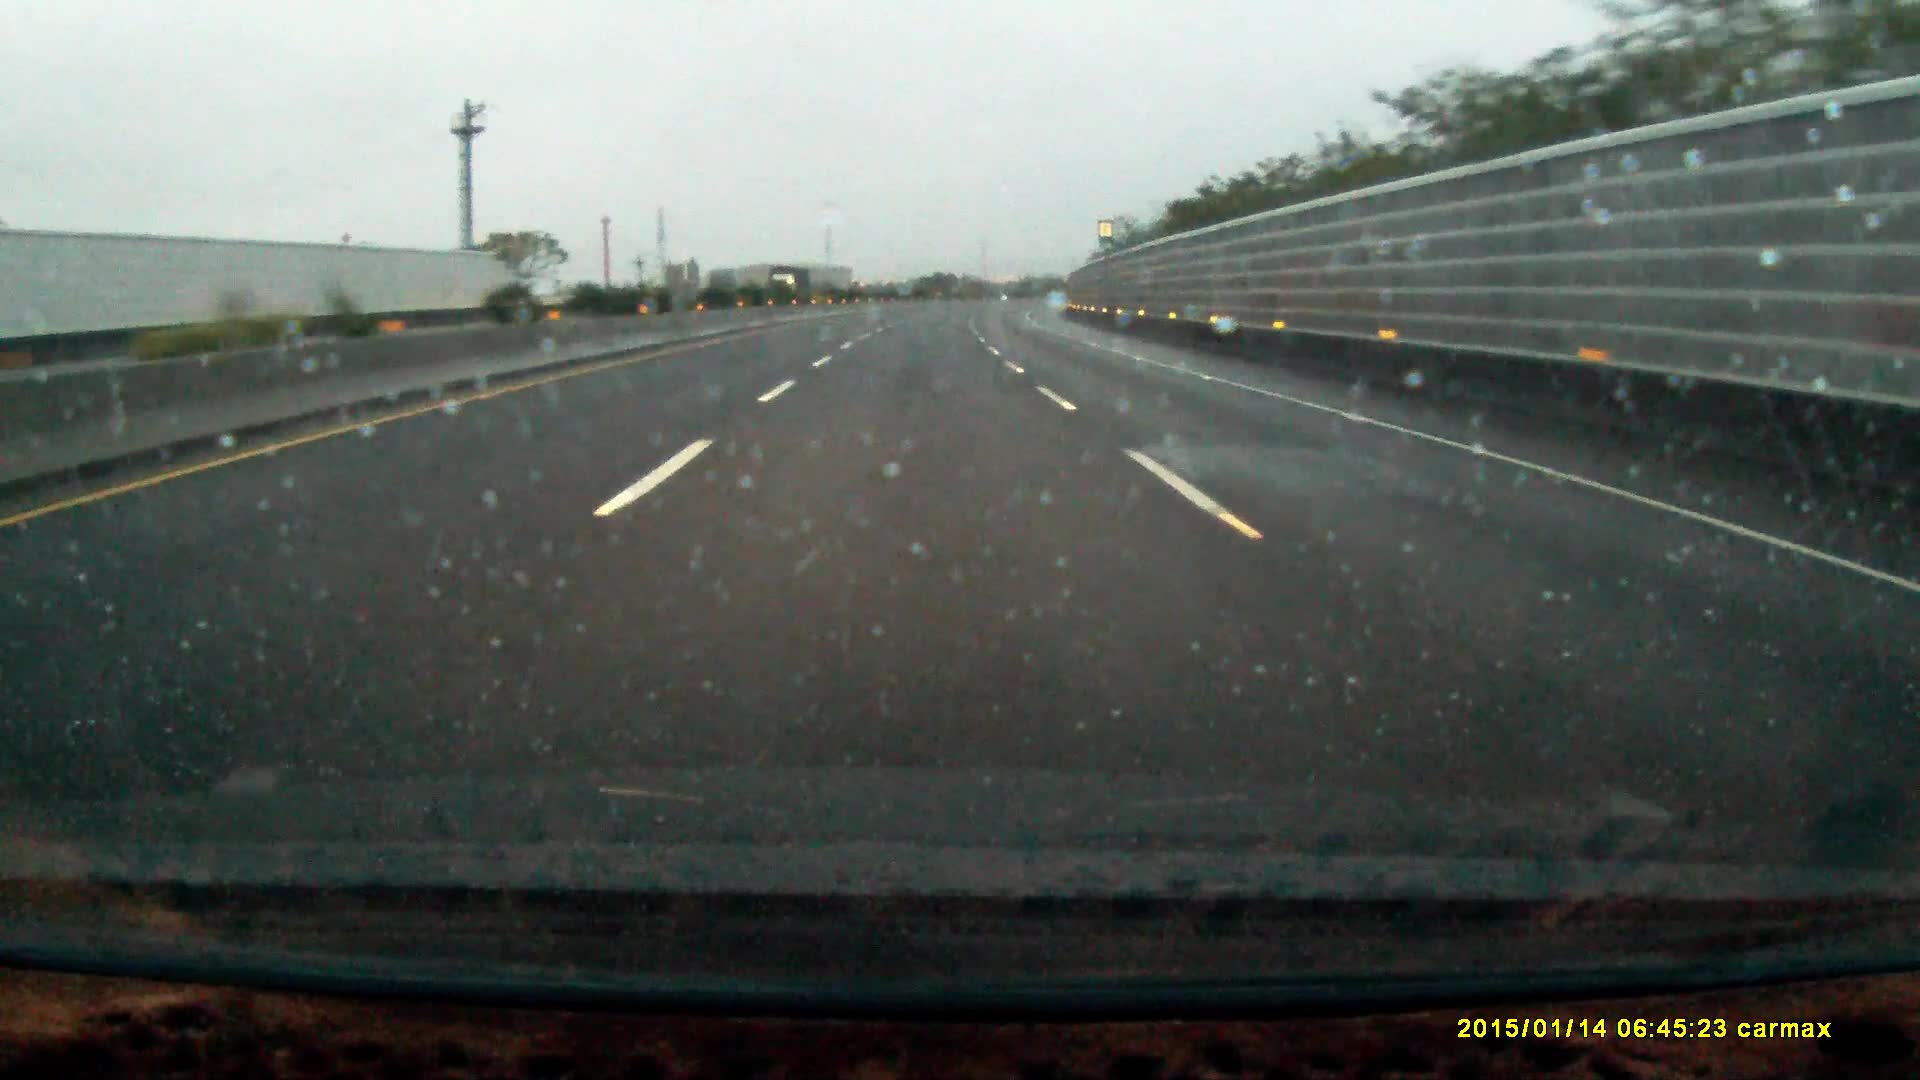vehicle: (767, 266, 814, 303)
